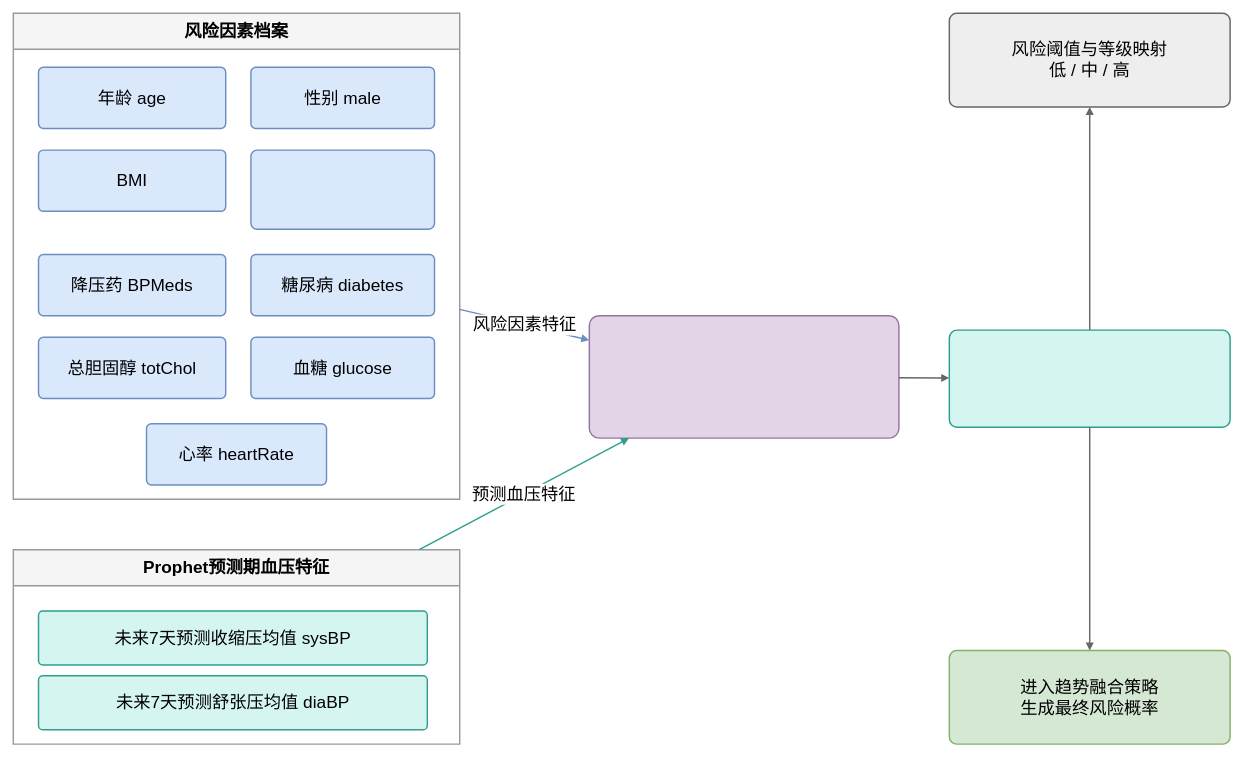
Image size: 1243x757. Some labels were removed from this diagram. The shapes that lost their labels are listed below. From the top down, each one's centre as x and y in pixels, then its label:
At point 342,189: "吸烟 currentSmoker / cigsPerDay".
At point 743,376: "LightGBM 风险分类模型 按固定特征顺序构造特征向量".
At point 1089,378: "raw_probability 高血压风险原始概率".
